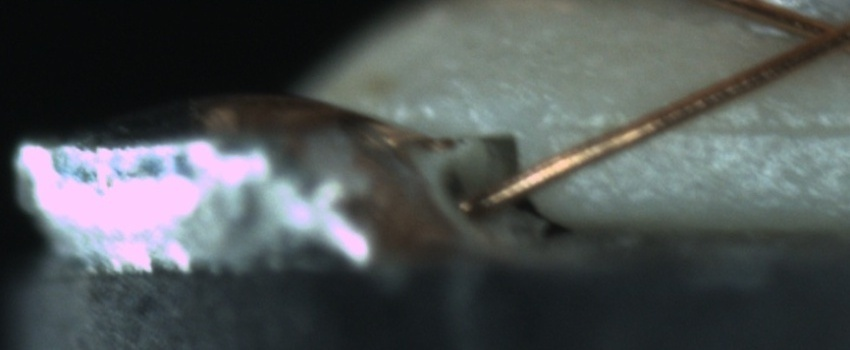CL: (772, 4, 850, 66)
DL: (557, 100, 849, 158)
